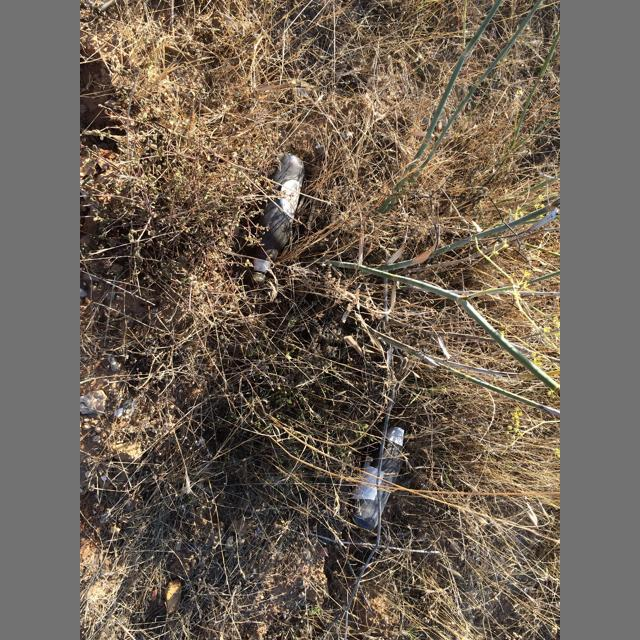litter: (252, 152, 304, 282), (347, 418, 405, 530), (252, 274, 265, 283)
